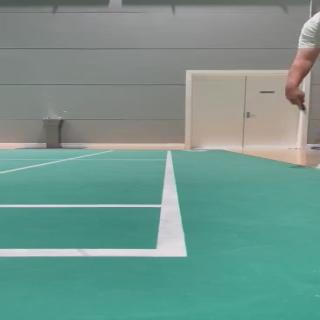Shuttle: (315, 164, 320, 170)
